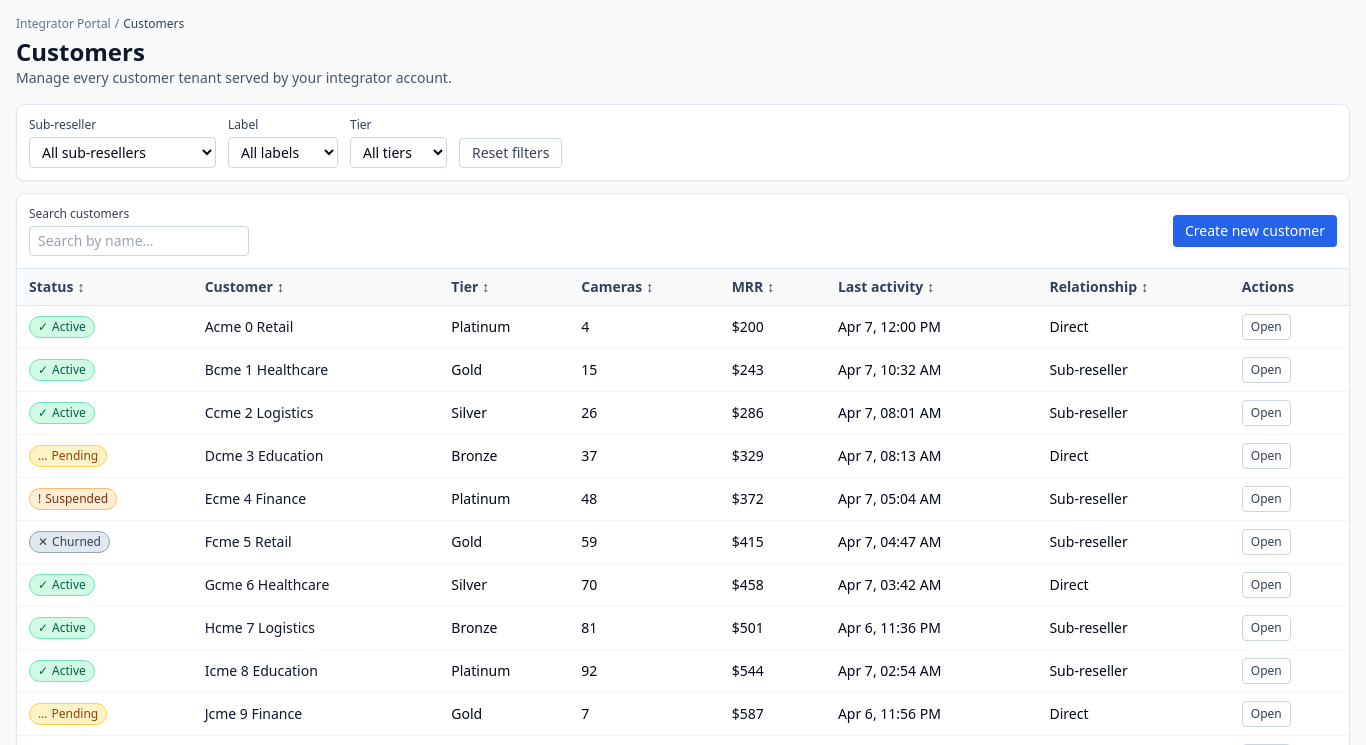
Test: CustomersPage › Create Customer wizard blocks step advance when required fields are empty
Click the button with test id "customer-create-open". click: (1255, 231)
box: [1173,215,1337,247]
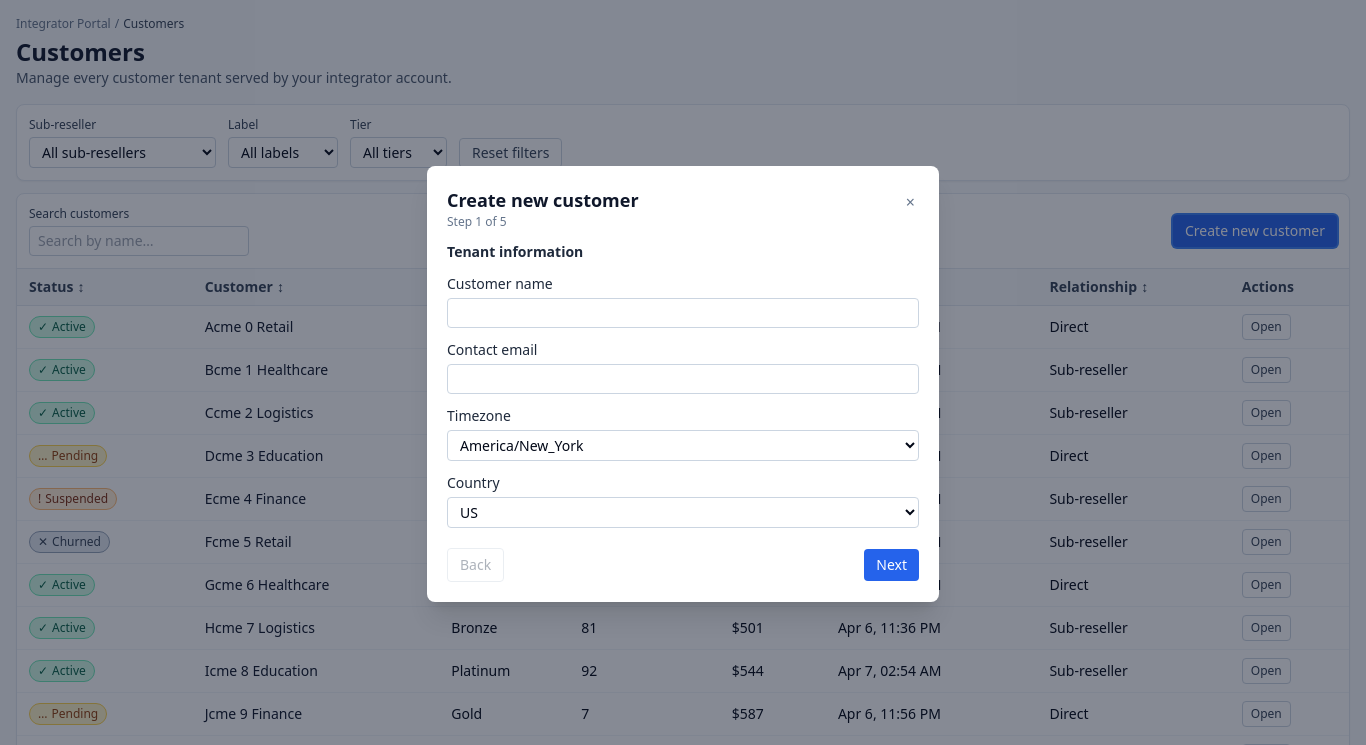
// Click Next without filling anything.
Click the button with test id "create-wizard-next". click: (892, 565)
box: [864,549,919,581]
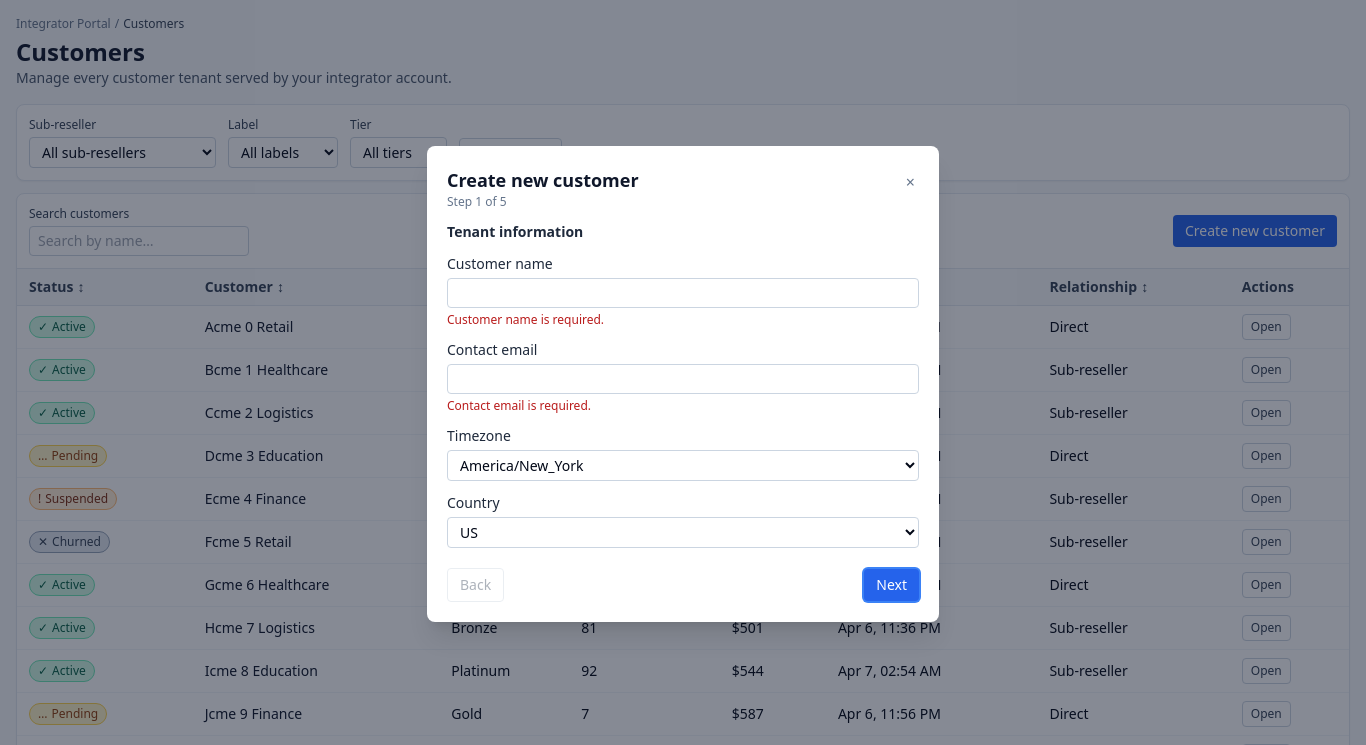
Now the element with test id "create-step-1" is shown, box [447,222,919,548]
Now the message "Customer name is required." is shown, box [447,311,604,328]
Now the message "Contact email is required." is shown, box [447,397,591,414]
